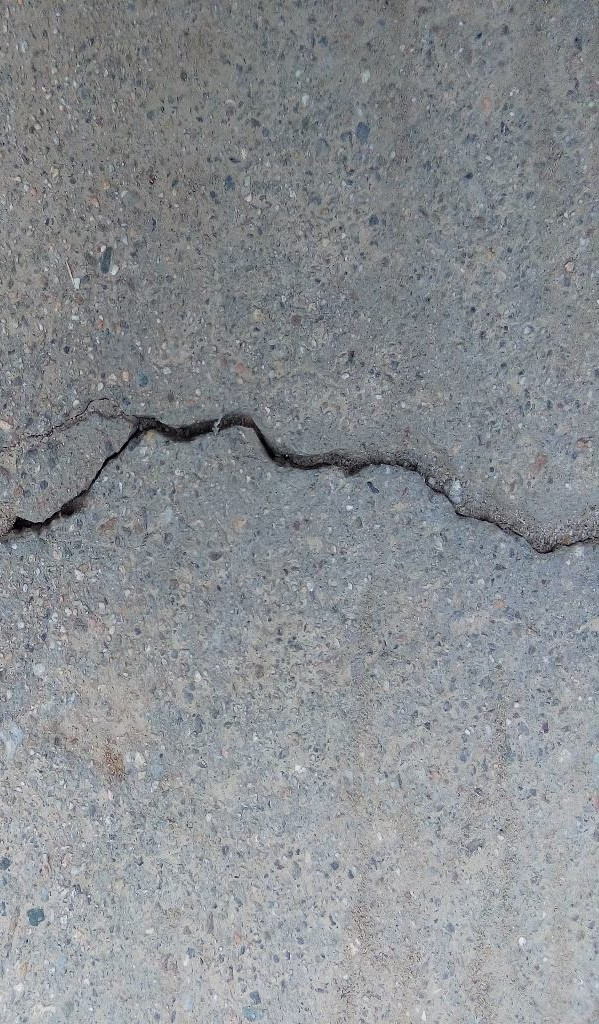Crack: (1, 409, 599, 557)
